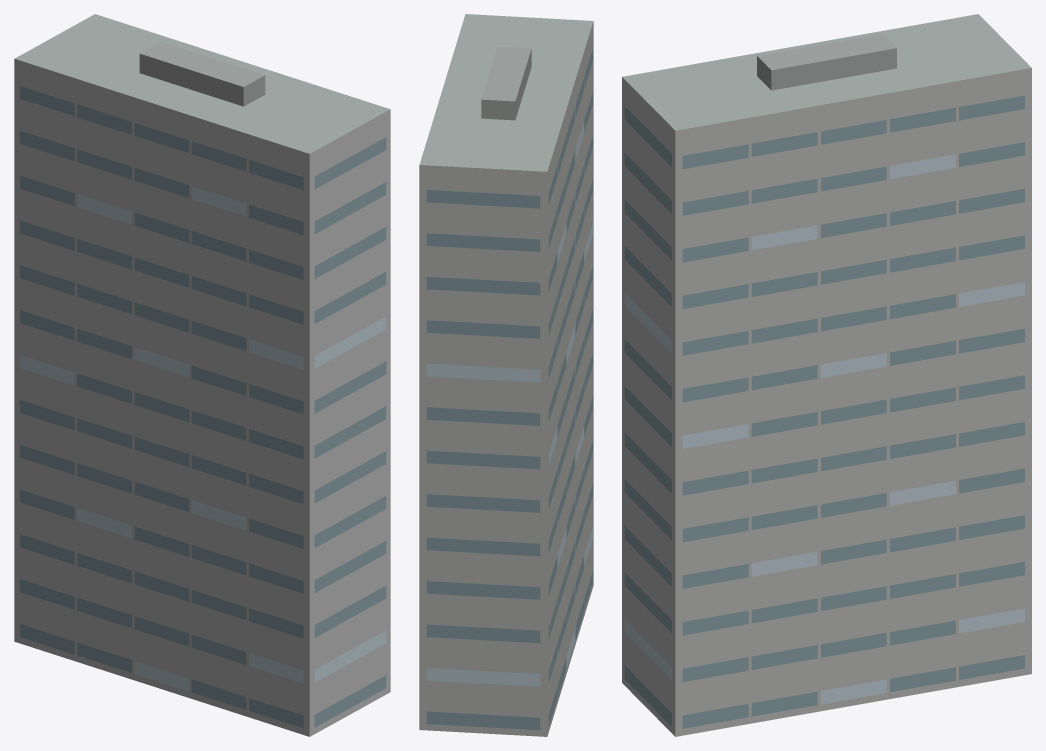
The model's file is fallback-songpa-helio-city-209.glb.
3 renders of one model, left to right at view 1: azimuth 30°, elevation 25°; view 2: azimuth 150°, elevation 25°; view 3: azimuth 270°, elevation 25°, orthographic. The views are drawn at different scales.
Visible parts, largest first — view 1: fallback-songpa-helio-city-209; view 2: fallback-songpa-helio-city-209; view 3: fallback-songpa-helio-city-209.
Boxes of the visible parts, x1,y1,x2,y2 form: fallback-songpa-helio-city-209: (14,14,390,736); fallback-songpa-helio-city-209: (419,14,593,736); fallback-songpa-helio-city-209: (622,14,1031,736).
Bounding box in the file's own units: 29.6 × 74 × 43.87.
